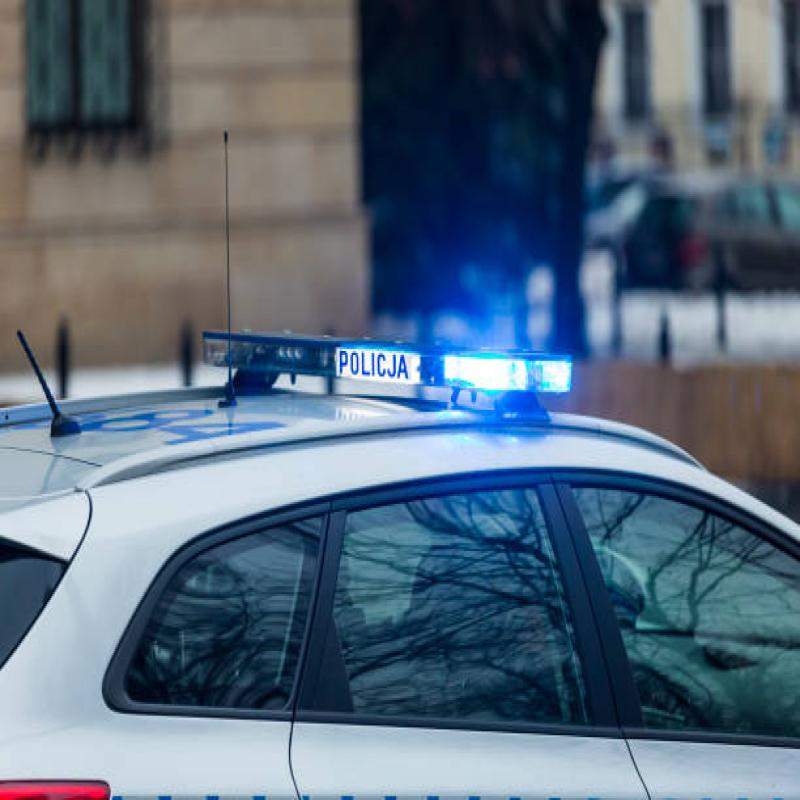AmbulanceSiren: (194, 296, 579, 428)
